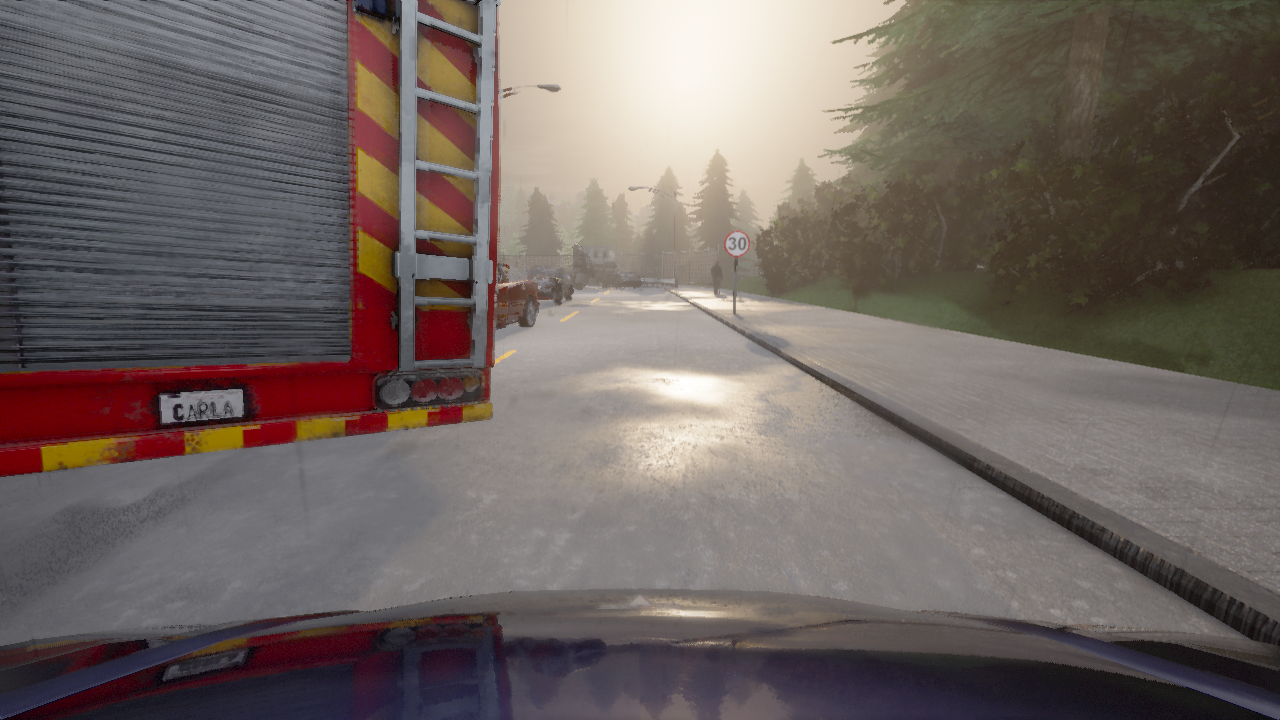cyclist: (0, 588, 1279, 719), (495, 262, 538, 328), (566, 243, 618, 288), (523, 266, 572, 304), (754, 253, 801, 277), (608, 271, 640, 287)
pedestrian: (712, 260, 723, 294)
